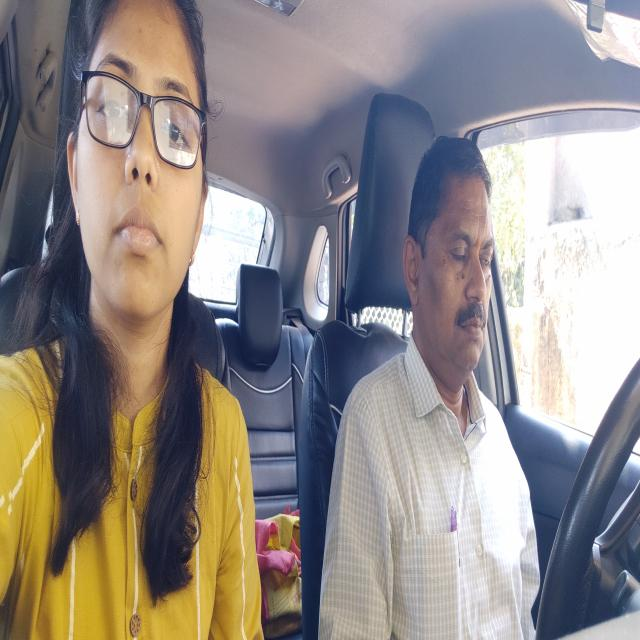drowsy: (402, 130, 498, 412)
person: (62, 0, 214, 320)
